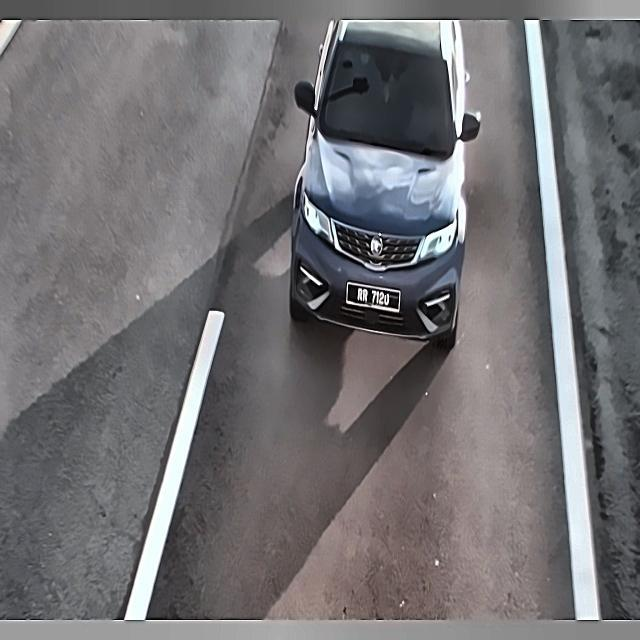car: (346, 270, 401, 321)
